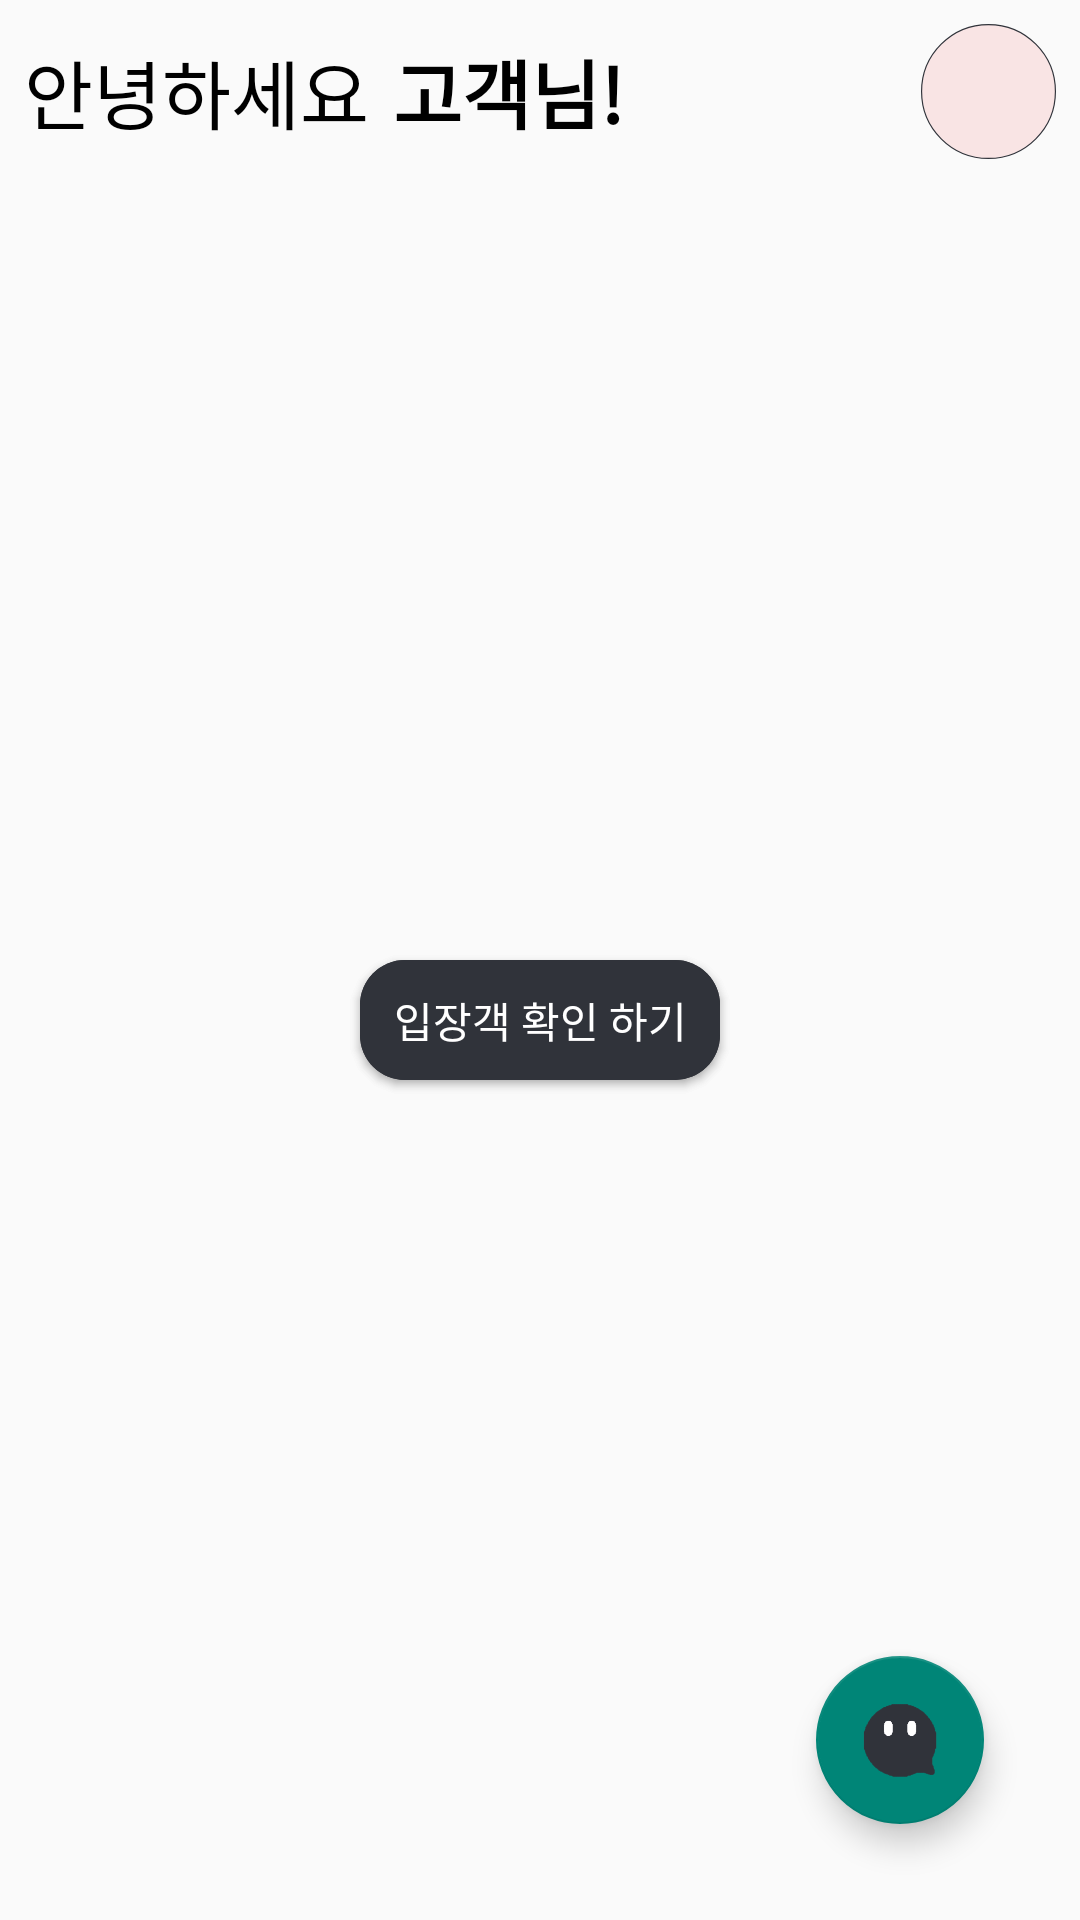

Named icons in this screenshot (1080 x 1920) and their bounding boxes, Rect(x1, y1, x2, y2):
livechat: Rect(816, 1656, 984, 1824)
